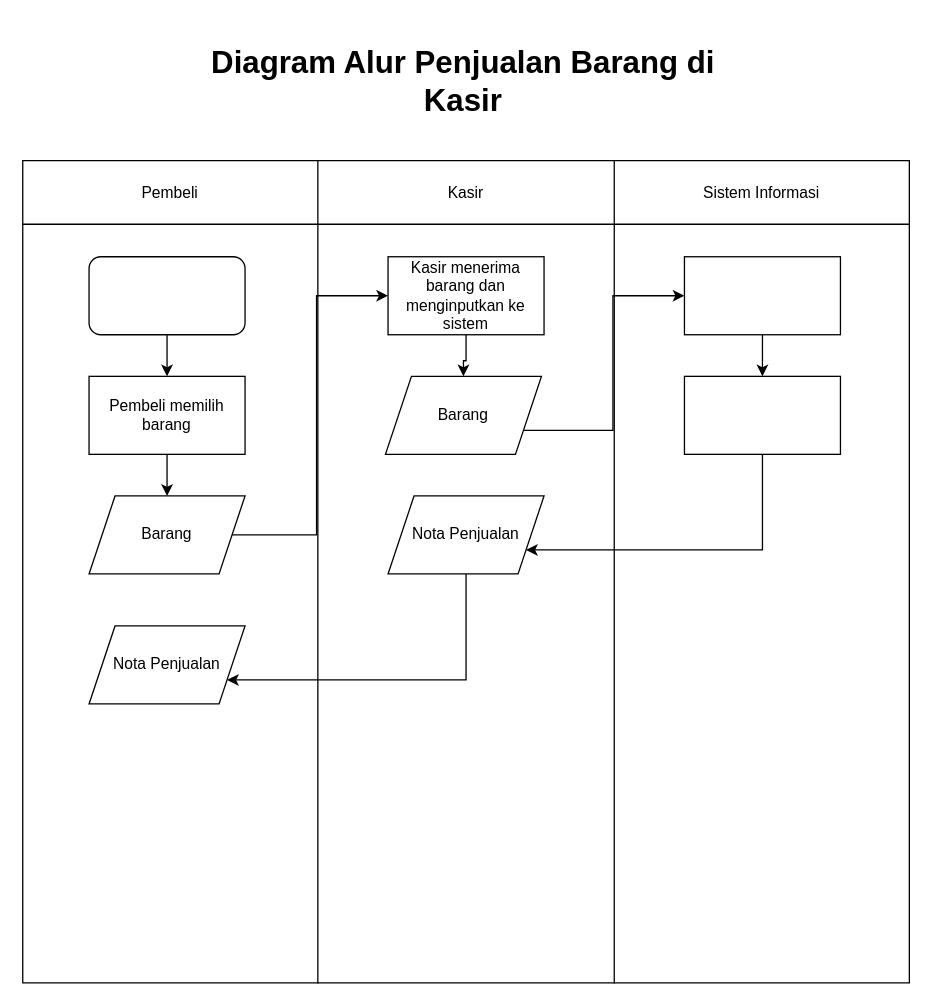
This 932x1006 diagram has some shape labels left out. Here are the shapes that lost their labels. From the top down, the box of each, then its label:
(88, 255, 245, 335): Mulai
(683, 255, 840, 335): Sistem mengurangi stok databse
(683, 375, 840, 454): Sistem memasukan dalam nota
